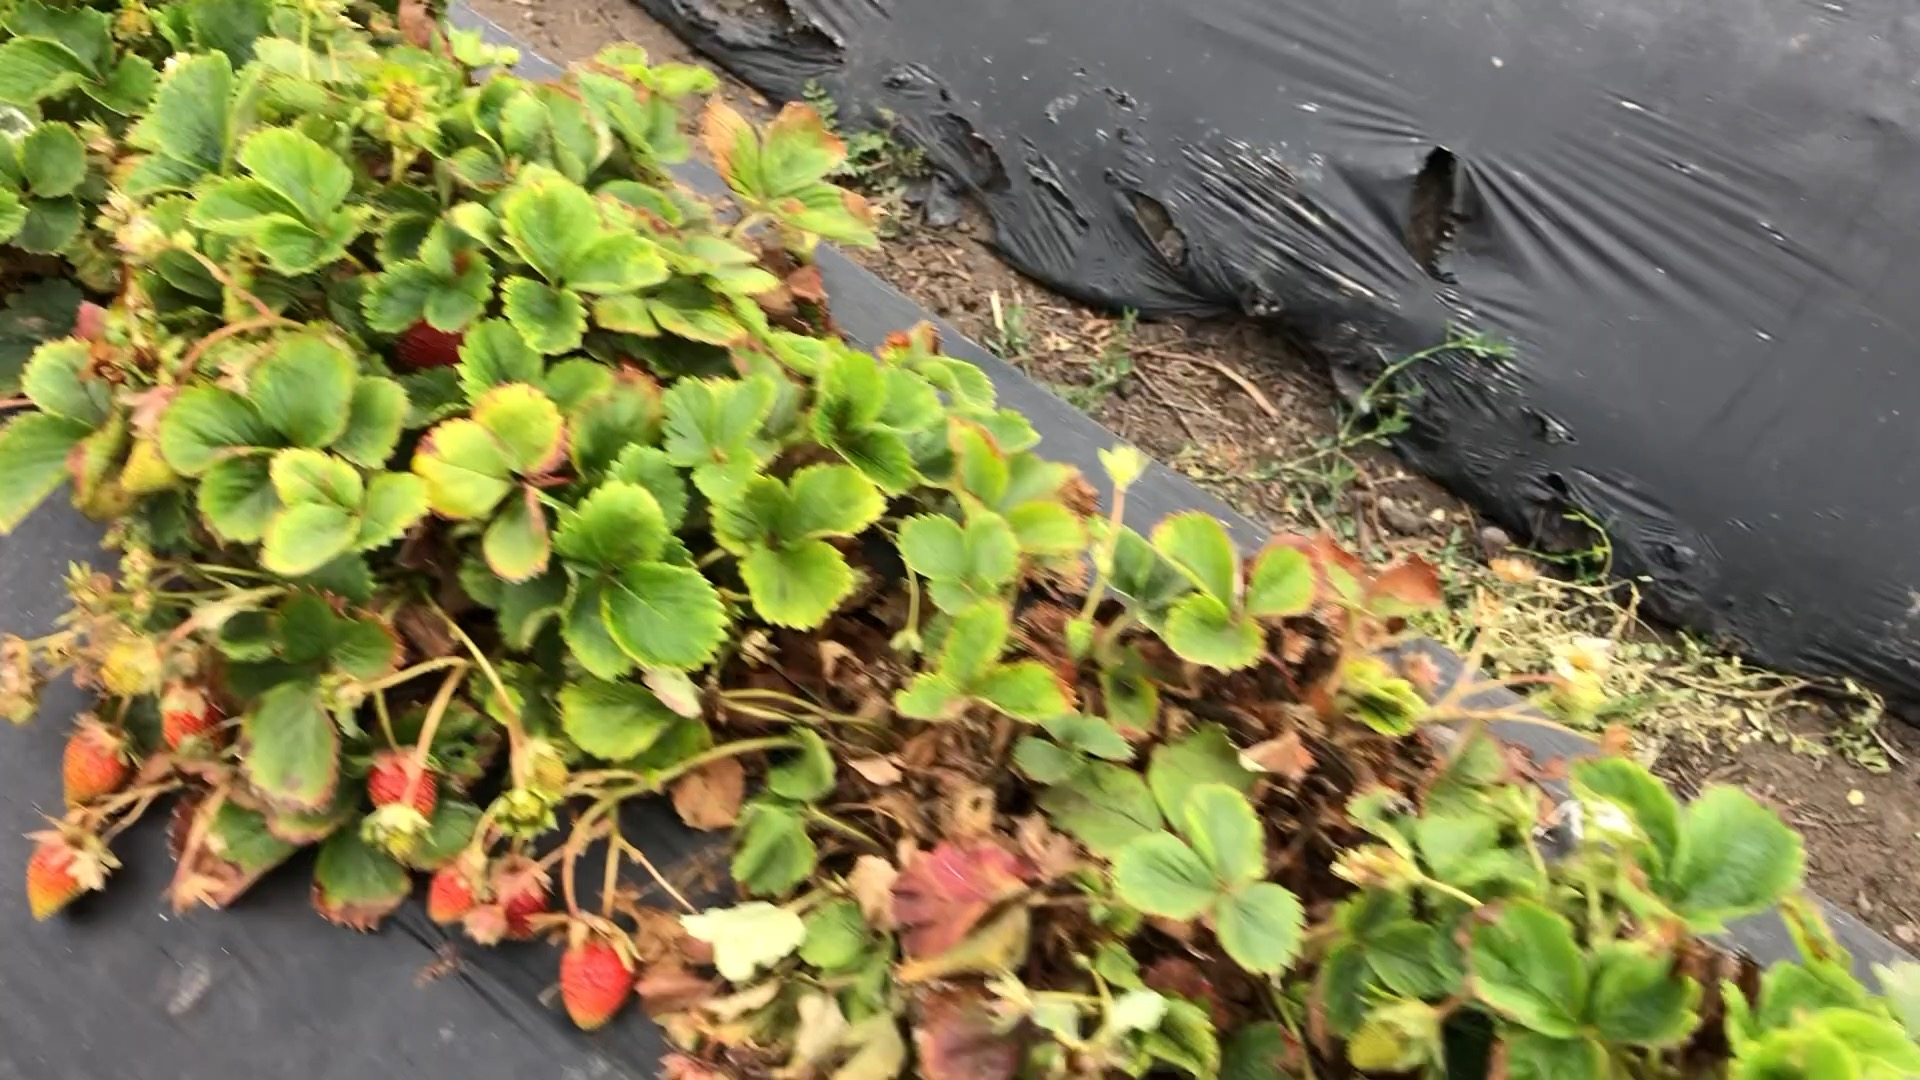ripe_strawberry: (367, 742, 440, 823), (496, 855, 555, 945), (392, 319, 465, 378), (426, 856, 485, 928)
unripe_strawberry: (556, 920, 638, 1035), (22, 823, 96, 923), (1342, 997, 1437, 1073), (61, 717, 135, 814), (160, 684, 229, 764)
